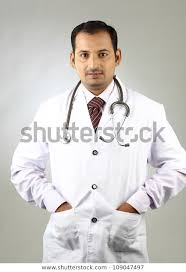Indian_Male: (76, 32, 116, 89)
